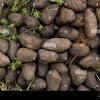Elk: (14, 16, 98, 90)
